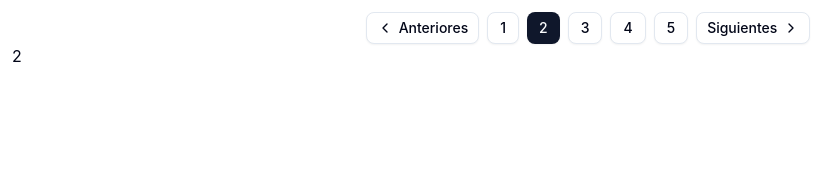
Scenario: CustomPagination › should move to the next page when "Siguientes" is clicked
Click the button "Siguientes".
click(753, 28)  # box [696,12,810,44]
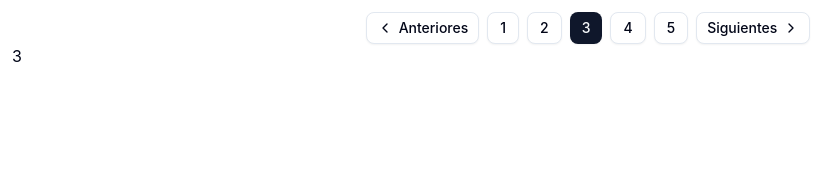
Now the text with test id "probe-page" reads "3", box [12,46,22,66]
